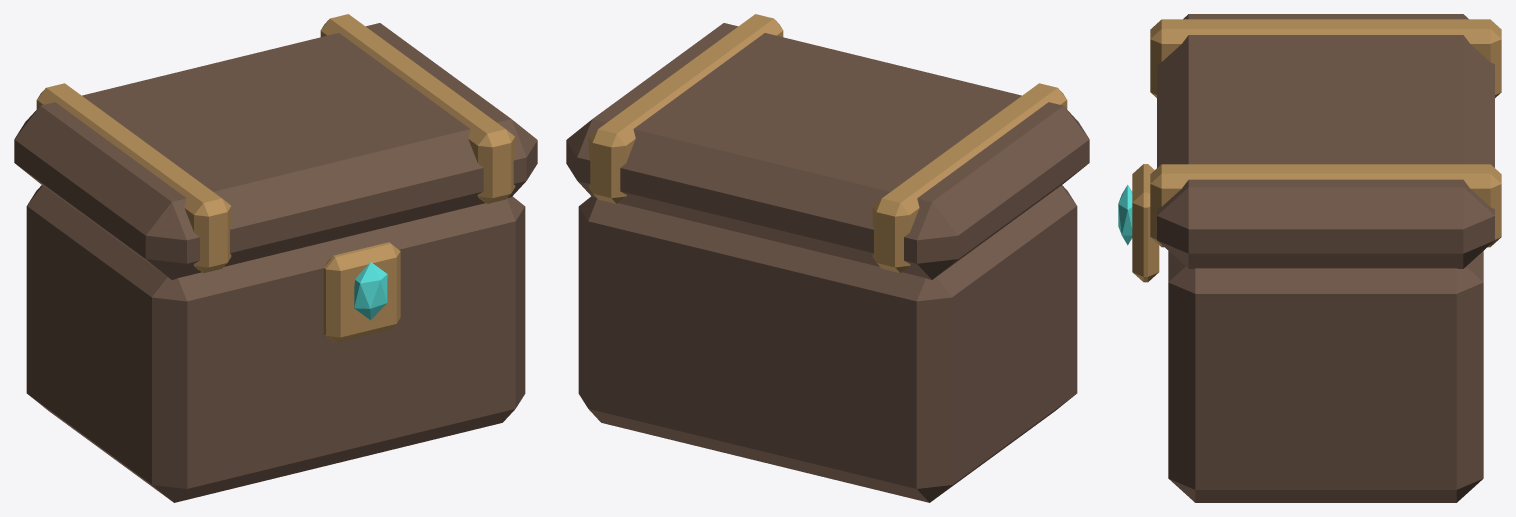
File: SH10_Chest.fbx
3 renders of one model, left to right at view 1: azimuth 30°, elevation 25°; view 2: azimuth 150°, elevation 25°; view 3: azimuth 270°, elevation 25°, orthographic. The views are drawn at different scales.
Visible parts, largest first — view 1: SH10_Chest; view 2: SH10_Chest; view 3: SH10_Chest.
Part boxes in pixels (<box>): SH10_Chest: <box>14,14,537,502</box>; SH10_Chest: <box>566,14,1089,502</box>; SH10_Chest: <box>1118,14,1501,502</box>.
Bounding box in the file's own units: 105 × 79 × 85.13.
